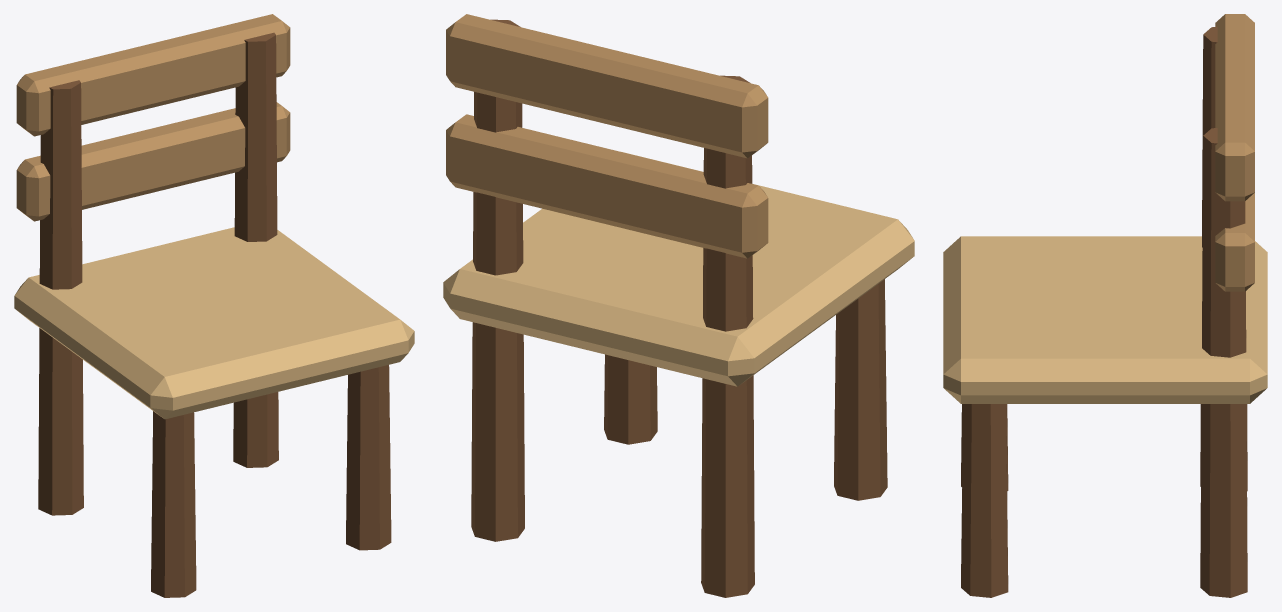
File: CC_Chair.fbx
3 views of the same model, side by side, from view 1: azimuth 30°, elevation 25°; view 2: azimuth 150°, elevation 25°; view 3: azimuth 270°, elevation 25° (orthographic). The views are drawn at different scales.
Visible parts, largest first — view 1: Seat, Leg.045, Backrest.001, Backrest, Leg.047, Leg.044, Leg.046; view 2: Seat, Backrest.001, Backrest, Leg.045, Leg.047, Leg.044, Leg.046; view 3: Seat, Leg.047, Leg.046, Backrest.001, Backrest, Leg.045.
Boxes of the visible parts, x1=… form: Seat: x1=14, y1=227, x2=414, y2=419; Leg.045: x1=38, y1=80, x2=83, y2=515; Backrest.001: x1=16, y1=14, x2=290, y2=136; Backrest: x1=16, y1=102, x2=290, y2=221; Leg.047: x1=233, y1=32, x2=278, y2=467; Leg.044: x1=151, y1=411, x2=196, y2=597; Leg.046: x1=346, y1=365, x2=391, y2=550; Seat: x1=443, y1=152, x2=914, y2=386; Backrest.001: x1=446, y1=14, x2=768, y2=158; Backrest: x1=446, y1=114, x2=768, y2=258; Leg.045: x1=701, y1=75, x2=754, y2=597; Leg.047: x1=471, y1=19, x2=524, y2=541; Leg.044: x1=834, y1=279, x2=887, y2=500; Leg.046: x1=604, y1=354, x2=657, y2=444; Seat: x1=943, y1=236, x2=1267, y2=403; Leg.047: x1=1200, y1=128, x2=1247, y2=597; Leg.046: x1=961, y1=404, x2=1008, y2=597; Backrest.001: x1=1215, y1=14, x2=1254, y2=201; Backrest: x1=1215, y1=193, x2=1254, y2=291; Leg.045: x1=1200, y1=26, x2=1247, y2=491.
Bounding box in the file's own units: 0.65 × 1.01 × 0.65.
